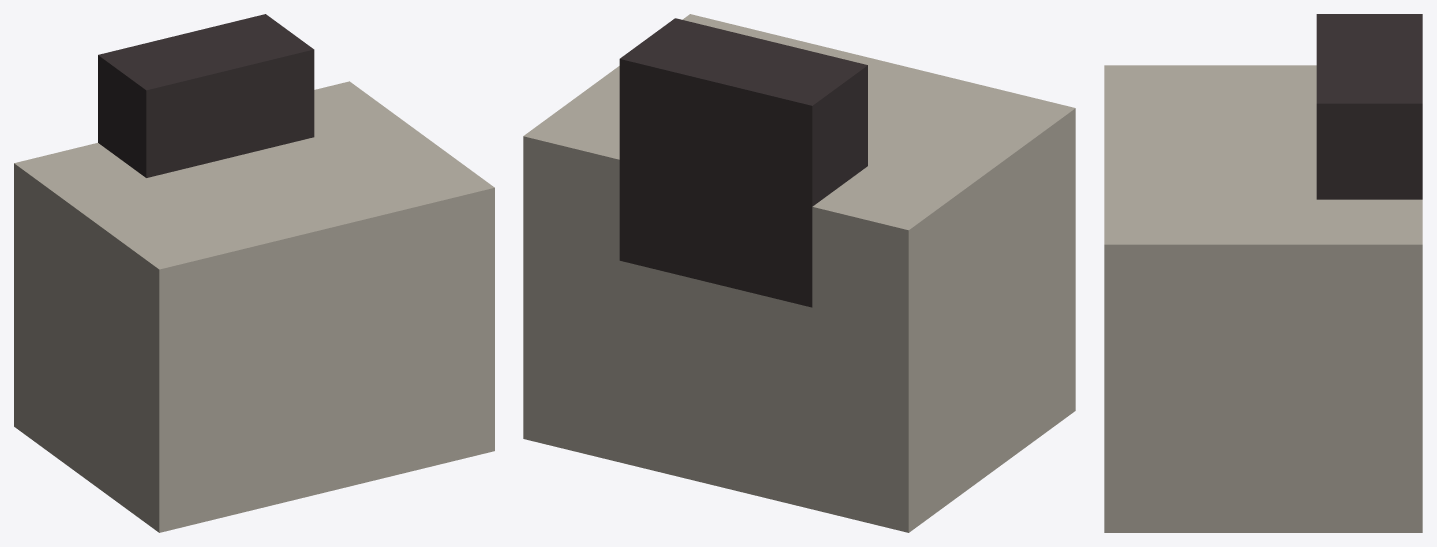
The model's file is duck__tail.glb.
3 views of the same model, side by side, from view 1: azimuth 30°, elevation 25°; view 2: azimuth 150°, elevation 25°; view 3: azimuth 270°, elevation 25° (orthographic). The views are drawn at different scales.
Visible parts, largest first — view 1: duck__tail; view 2: duck__tail; view 3: duck__tail.
Part boxes in pixels (<box>): duck__tail: <box>14,14,494,532</box>; duck__tail: <box>523,14,1075,532</box>; duck__tail: <box>1104,14,1422,532</box>.
Bounding box in the file's own units: 0.4 × 0.4 × 0.3.
1 material, 1 textured.
